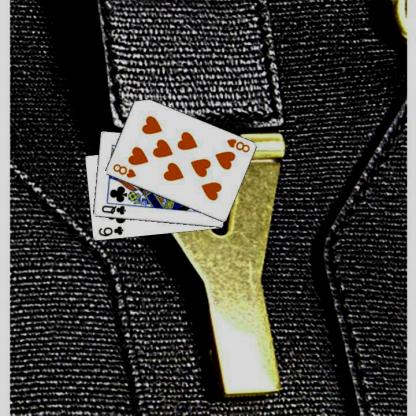6C: (96, 223, 124, 238)
8H: (110, 161, 137, 179), (224, 136, 251, 154)
QC: (99, 203, 126, 216)
